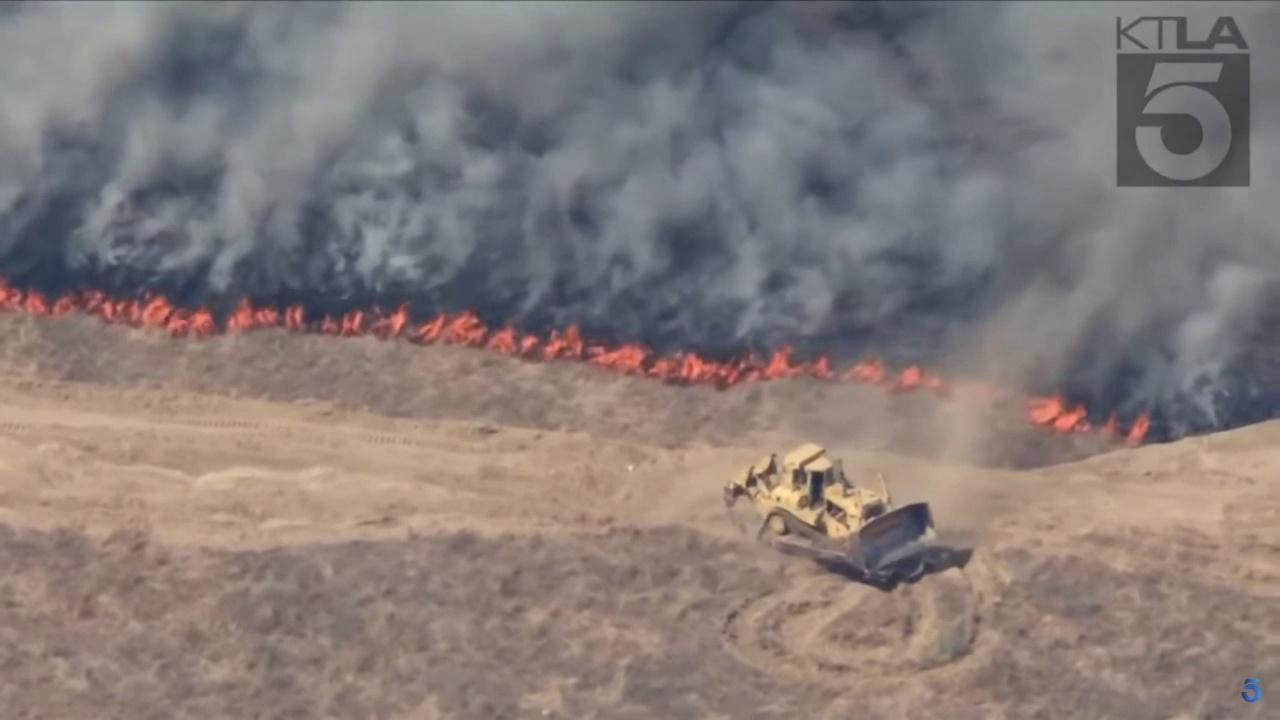fire: (222, 291, 946, 396), (0, 278, 213, 341), (1019, 388, 1119, 442), (1128, 412, 1152, 449)
smoke: (0, 0, 1280, 434)
